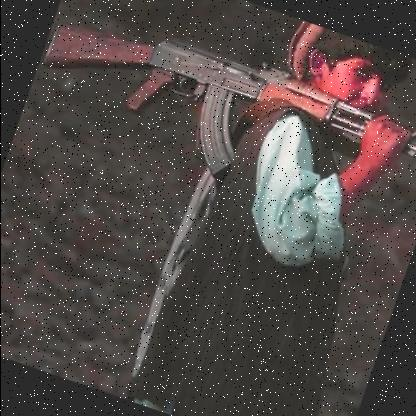rifle: (28, 0, 416, 235)
